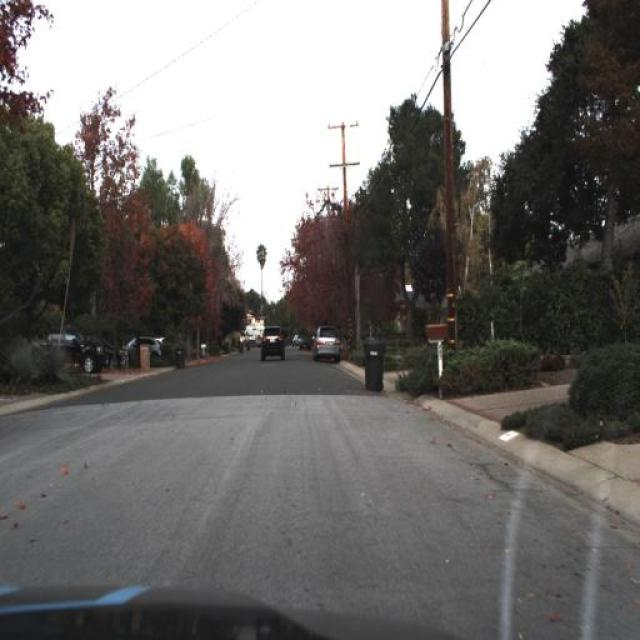car: (45, 326, 107, 382), (256, 321, 289, 368), (313, 323, 342, 359), (124, 337, 162, 362), (300, 336, 310, 352)
